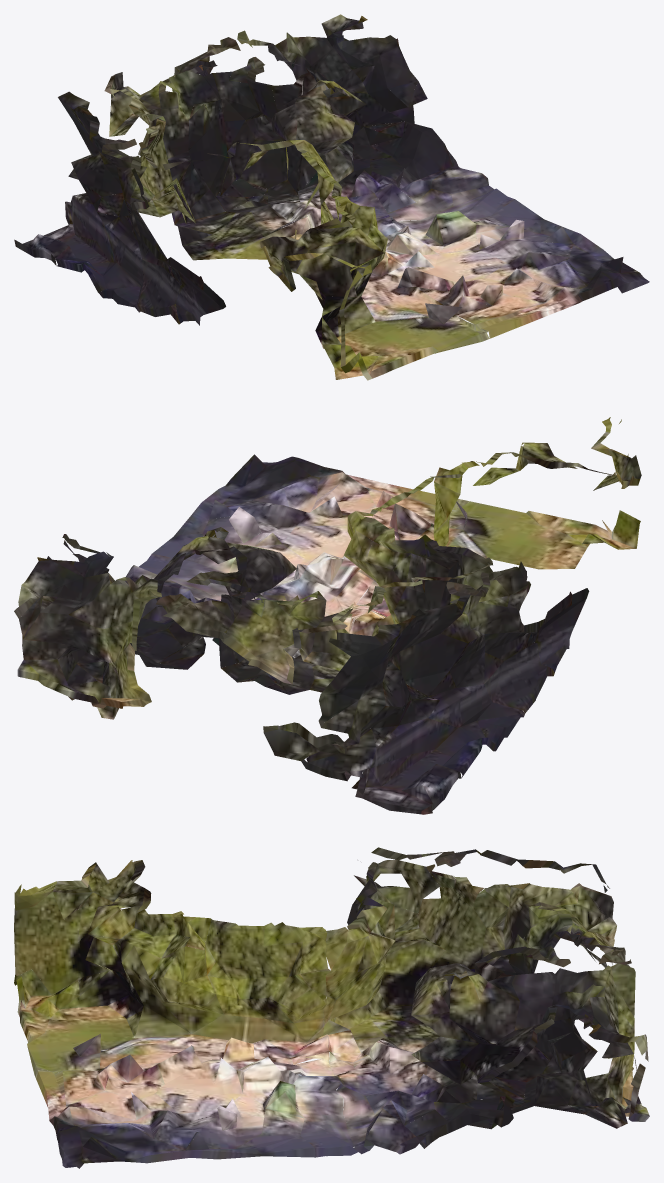
The picture shows the model from 3 angles, top to bottom: view 1: azimuth 30°, elevation 25°; view 2: azimuth 150°, elevation 25°; view 3: azimuth 270°, elevation 25°; orthographic projection. The views are drawn at different scales.
Parts seen in each view (by area): view 1: Mesh_0; view 2: Mesh_0; view 3: Mesh_0.
Boxes of the visible parts, x1,y1,x2,y2 form: Mesh_0: (14,14,649,380); Mesh_0: (14,417,641,814); Mesh_0: (14,847,649,1168).
Bounding box in the file's own units: 33.42 × 12.22 × 41.3.
Materials: 2 (2 with a texture image).
